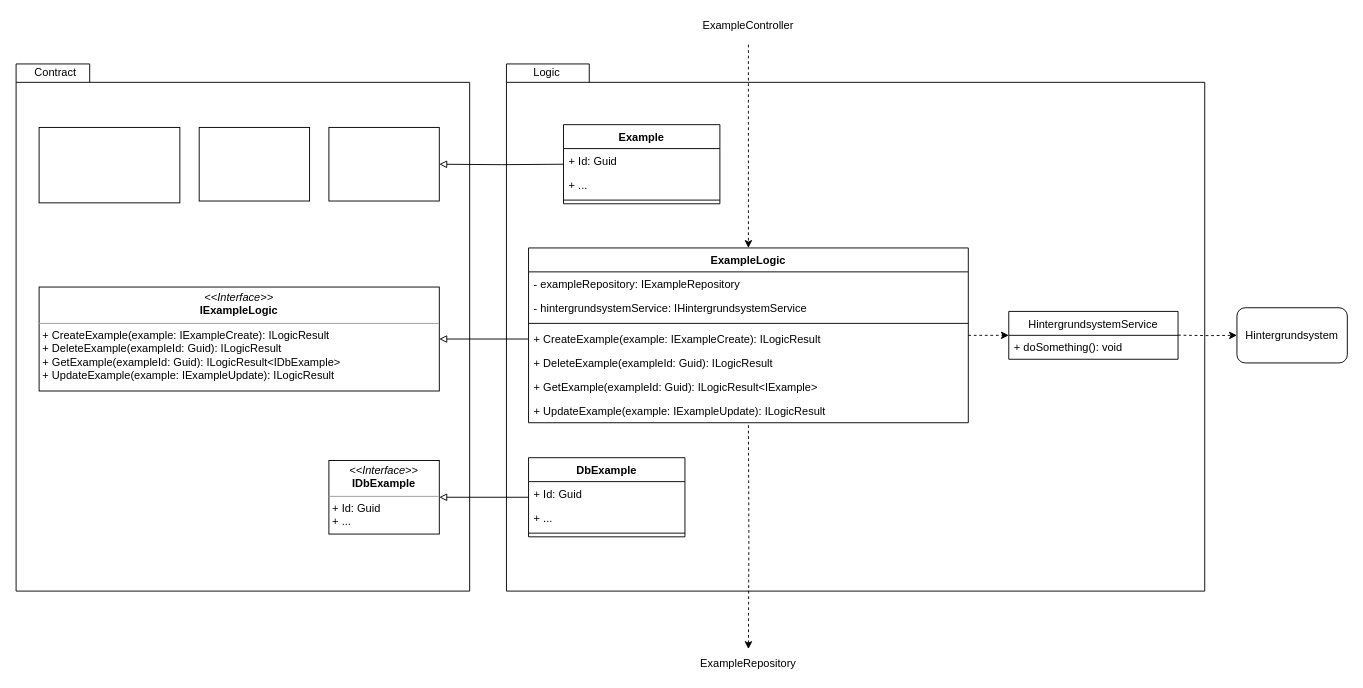
Some shapes in this 1363 by 688 pixel diagram are drawn without their labels. The shapes that lost their labels are listed below. From the top down, each one's centre as x and y in pixels, then its label:
the point at 109,164: <<Interface>> ILogicResult<T> + Data: T + Status: ...
the point at 254,163: <<Interface>> IExampleCreate + Id: Guid + ...
the point at 383,163: <<Interface>> IExample + Id: Guid + ...
